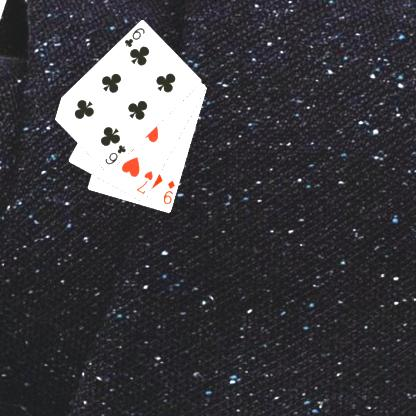6C: (102, 142, 128, 166), (122, 25, 146, 49)
7H: (134, 168, 154, 196)
9D: (160, 178, 176, 206)
